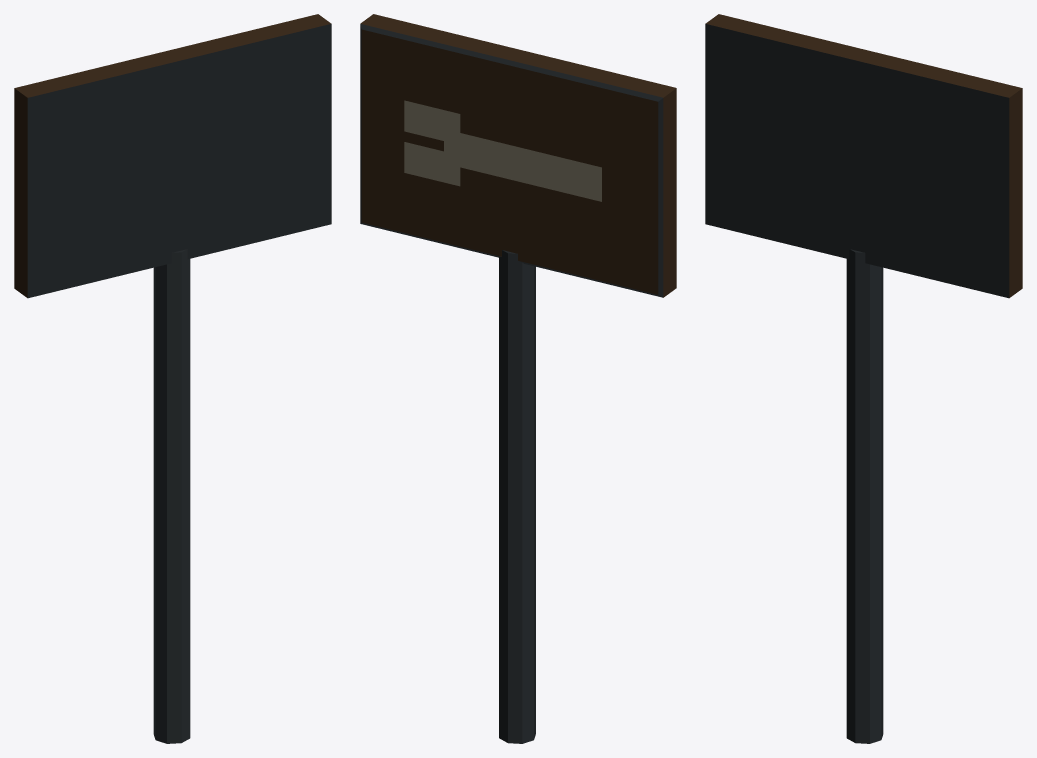
The model's file is lp_park_exit_sign.glb.
3 views of the same model, side by side, from view 1: azimuth 30°, elevation 25°; view 2: azimuth 150°, elevation 25°; view 3: azimuth 330°, elevation 25° (orthographic).
Visible parts, largest first — view 1: lp_park_exit_sign; view 2: lp_park_exit_sign; view 3: lp_park_exit_sign.
Part boxes in pixels (bbox=[...]): lp_park_exit_sign: bbox=[14, 14, 331, 743]; lp_park_exit_sign: bbox=[360, 14, 676, 743]; lp_park_exit_sign: bbox=[705, 14, 1022, 743].
Bounding box in the file's own units: 0.92 × 1.97 × 0.1.
1 material, 1 textured.
